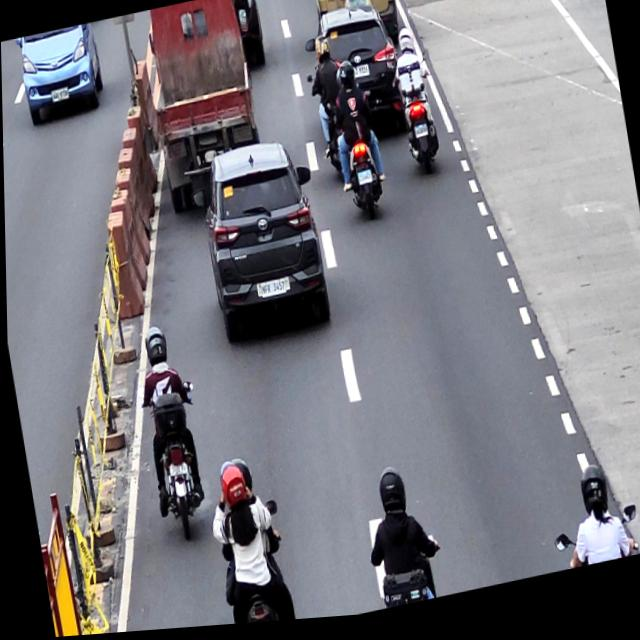Car: (199, 136, 327, 340)
License-Plate: (258, 283, 287, 306), (165, 461, 188, 478), (354, 66, 372, 84), (356, 172, 373, 190), (414, 130, 428, 145)
Motorcycle: (129, 320, 208, 550), (205, 455, 289, 629), (356, 468, 435, 616), (330, 65, 389, 231), (548, 471, 638, 579), (389, 36, 446, 183)
Truck: (140, 0, 262, 215)
